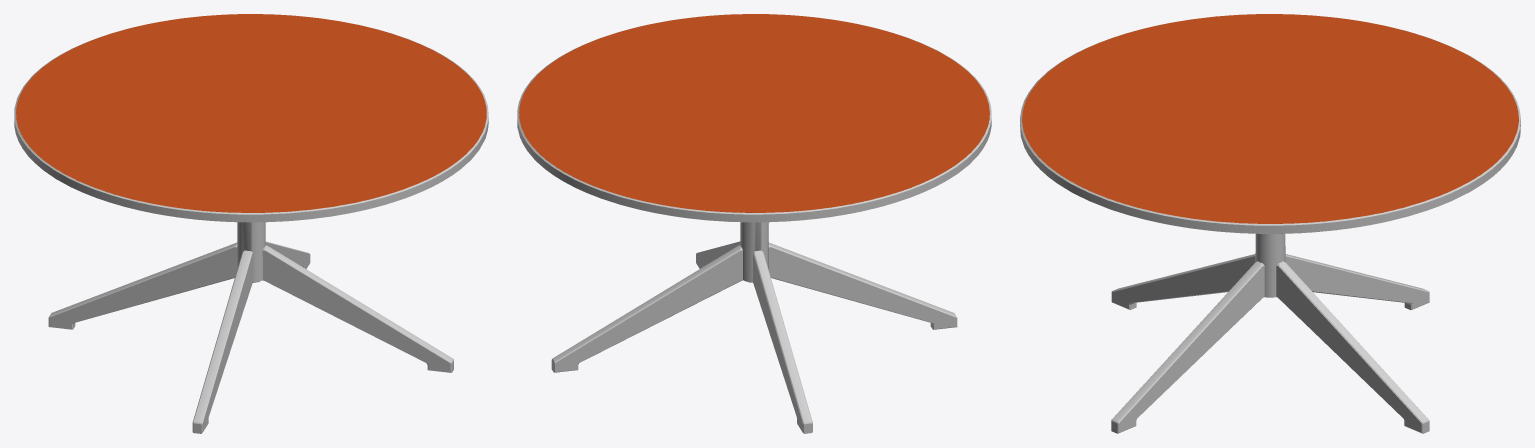
File: table1.glb
3 renders of one model, left to right at view 1: azimuth 30°, elevation 25°; view 2: azimuth 150°, elevation 25°; view 3: azimuth 270°, elevation 25°, orthographic. The views are drawn at different scales.
Visible parts, largest first — view 1: L_8d966dca_8afe_458f_9fc5_cabb543fb8d6_C1_I4, L_d5f370f3_7af2_4852_b3c4_884c1f749d2d_C1_I7, L_ea61aa8d_9d6e_4439_aafc_8b4f5b4d2b37_C1_I8, L_bbff62fc_4103_4c9c_8e8e_c560601854be_C1_I5, L_87a5ad65_50b4_454e_a42e_22bc071fdc33_C1_I3, L_70e3f1c8_df53_4a0b_abdf_076ae4eab81c_C1_I2, L_bfd296df_4c05_4615_90de_c7a12348349b_C1_I6; view 2: L_8d966dca_8afe_458f_9fc5_cabb543fb8d6_C1_I4, L_bfd296df_4c05_4615_90de_c7a12348349b_C1_I6, L_ea61aa8d_9d6e_4439_aafc_8b4f5b4d2b37_C1_I8, L_87a5ad65_50b4_454e_a42e_22bc071fdc33_C1_I3, L_bbff62fc_4103_4c9c_8e8e_c560601854be_C1_I5, L_70e3f1c8_df53_4a0b_abdf_076ae4eab81c_C1_I2, L_d5f370f3_7af2_4852_b3c4_884c1f749d2d_C1_I7; view 3: L_8d966dca_8afe_458f_9fc5_cabb543fb8d6_C1_I4, L_ea61aa8d_9d6e_4439_aafc_8b4f5b4d2b37_C1_I8, L_d5f370f3_7af2_4852_b3c4_884c1f749d2d_C1_I7, L_bfd296df_4c05_4615_90de_c7a12348349b_C1_I6, L_bbff62fc_4103_4c9c_8e8e_c560601854be_C1_I5, L_87a5ad65_50b4_454e_a42e_22bc071fdc33_C1_I3, L_70e3f1c8_df53_4a0b_abdf_076ae4eab81c_C1_I2.
Part boxes in pixels (x1,y1,x2,y2): L_8d966dca_8afe_458f_9fc5_cabb543fb8d6_C1_I4: (16, 14, 486, 219); L_d5f370f3_7af2_4852_b3c4_884c1f749d2d_C1_I7: (262, 245, 453, 372); L_ea61aa8d_9d6e_4439_aafc_8b4f5b4d2b37_C1_I8: (14, 14, 488, 222); L_bbff62fc_4103_4c9c_8e8e_c560601854be_C1_I5: (48, 242, 237, 329); L_87a5ad65_50b4_454e_a42e_22bc071fdc33_C1_I3: (192, 250, 252, 433); L_70e3f1c8_df53_4a0b_abdf_076ae4eab81c_C1_I2: (237, 222, 265, 282); L_bfd296df_4c05_4615_90de_c7a12348349b_C1_I6: (265, 241, 310, 268); L_8d966dca_8afe_458f_9fc5_cabb543fb8d6_C1_I4: (519, 14, 989, 222); L_bfd296df_4c05_4615_90de_c7a12348349b_C1_I6: (551, 245, 742, 372); L_ea61aa8d_9d6e_4439_aafc_8b4f5b4d2b37_C1_I8: (517, 14, 991, 222); L_87a5ad65_50b4_454e_a42e_22bc071fdc33_C1_I3: (768, 242, 957, 329); L_bbff62fc_4103_4c9c_8e8e_c560601854be_C1_I5: (753, 250, 812, 433); L_70e3f1c8_df53_4a0b_abdf_076ae4eab81c_C1_I2: (740, 222, 768, 282); L_d5f370f3_7af2_4852_b3c4_884c1f749d2d_C1_I7: (696, 241, 740, 268); L_8d966dca_8afe_458f_9fc5_cabb543fb8d6_C1_I4: (1022, 14, 1518, 233); L_ea61aa8d_9d6e_4439_aafc_8b4f5b4d2b37_C1_I8: (1020, 14, 1520, 233); L_d5f370f3_7af2_4852_b3c4_884c1f749d2d_C1_I7: (1111, 261, 1264, 433); L_bfd296df_4c05_4615_90de_c7a12348349b_C1_I6: (1276, 261, 1429, 433); L_bbff62fc_4103_4c9c_8e8e_c560601854be_C1_I5: (1285, 254, 1429, 309); L_87a5ad65_50b4_454e_a42e_22bc071fdc33_C1_I3: (1111, 254, 1255, 309); L_70e3f1c8_df53_4a0b_abdf_076ae4eab81c_C1_I2: (1255, 233, 1285, 297).
Size of the model in its own units: 1 by 0.5459 by 0.9999.
